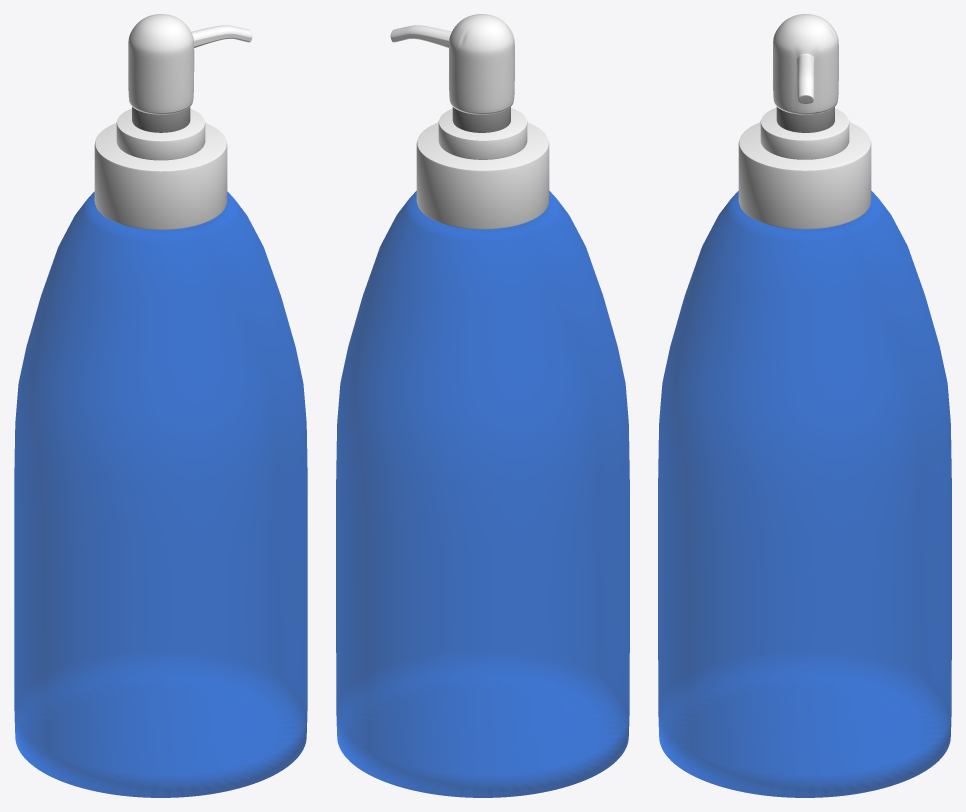
File: desinfectante manos.FBX
The picture shows the model from 3 angles, left to right: view 1: azimuth 30°, elevation 25°; view 2: azimuth 150°, elevation 25°; view 3: azimuth 270°, elevation 25°; orthographic projection.
Visible parts, largest first — view 1: Cylinder001, Cylinder002, Cylinder005, Cylinder003, Cylinder004; view 2: Cylinder001, Cylinder002, Cylinder005, Cylinder003, Cylinder004; view 3: Cylinder001, Cylinder002, Cylinder005, Cylinder003, Cylinder004.
Boxes of the visible parts, x1,y1,x2,y2 form: Cylinder001: (14, 191, 307, 797); Cylinder002: (94, 123, 227, 229); Cylinder005: (128, 14, 252, 114); Cylinder003: (116, 108, 205, 160); Cylinder004: (132, 107, 190, 132); Cylinder001: (336, 191, 629, 797); Cylinder002: (416, 122, 549, 229); Cylinder005: (390, 14, 514, 114); Cylinder003: (438, 107, 527, 159); Cylinder004: (452, 107, 510, 132); Cylinder001: (658, 191, 951, 797); Cylinder002: (738, 122, 871, 229); Cylinder005: (773, 14, 838, 114); Cylinder003: (760, 107, 849, 159); Cylinder004: (776, 107, 834, 132).
Bounding box in the file's own units: 49.12 × 133 × 49.12.
